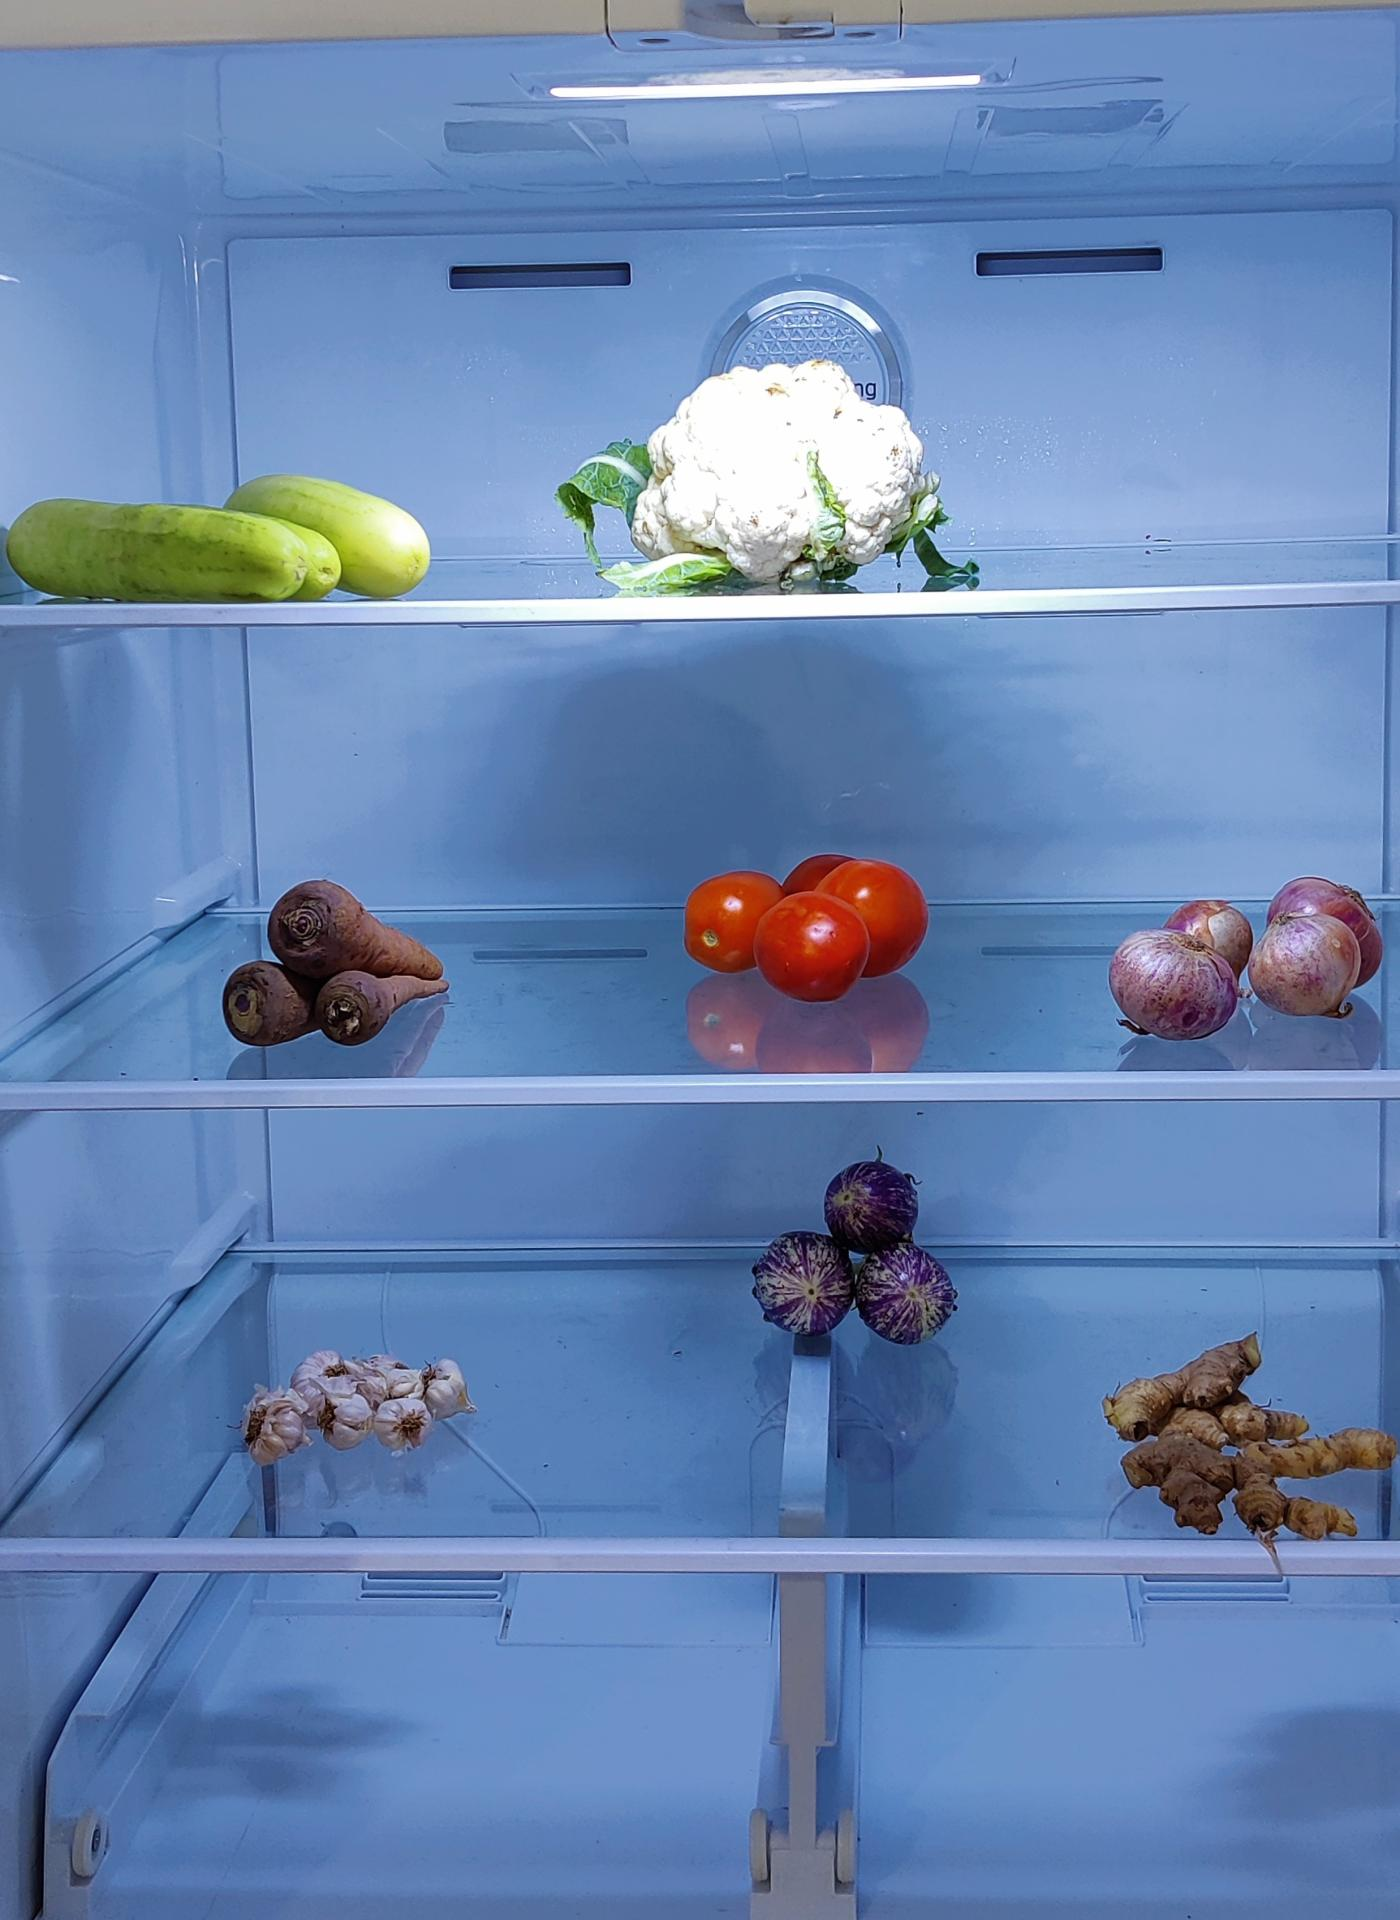brinjal: (731, 1154, 963, 1368)
carrots: (221, 877, 453, 1057)
cauliflower: (631, 362, 947, 574)
cucumber: (18, 473, 443, 604)
garlic: (237, 1343, 476, 1461)
ginger: (1106, 1349, 1390, 1546)
onion: (1108, 877, 1387, 1043)
tomato: (681, 847, 933, 997)
